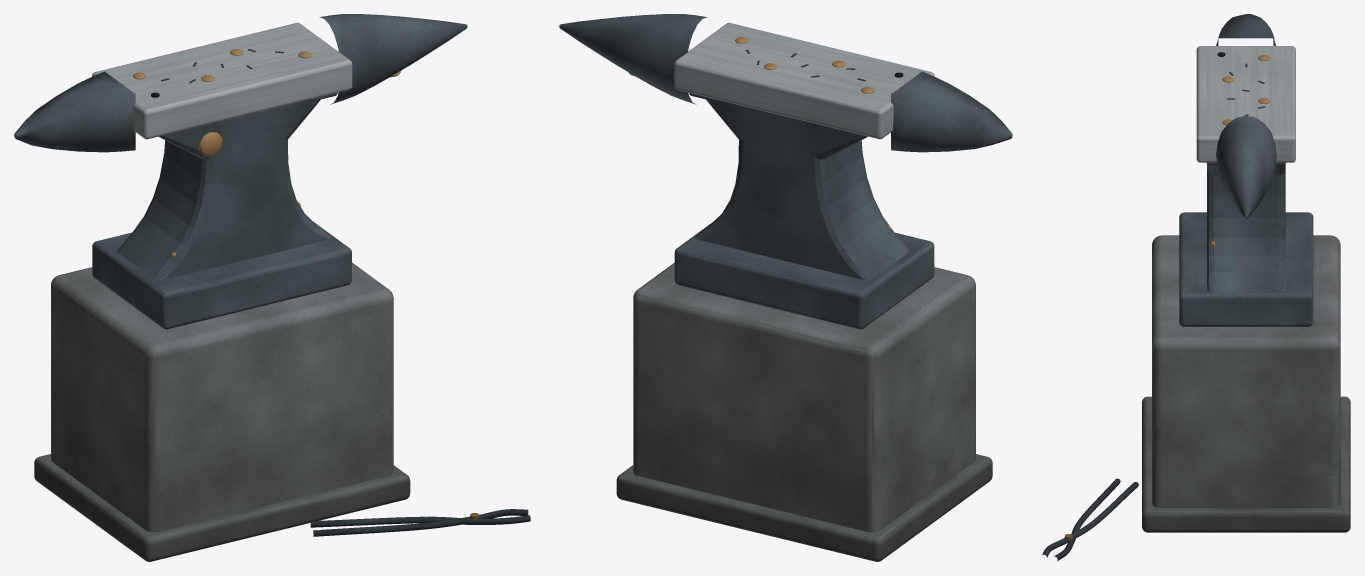
The picture shows the model from 3 angles, left to right: view 1: azimuth 30°, elevation 25°; view 2: azimuth 150°, elevation 25°; view 3: azimuth 270°, elevation 25°; orthographic projection. The views are drawn at different scales.
Visible parts, largest first — view 1: dressed stone, forged iron, machined steel, tooled stone trim, blackened strap iron; view 2: dressed stone, forged iron, machined steel, tooled stone trim; view 3: dressed stone, forged iron, machined steel, tooled stone trim, blackened strap iron.
Part boxes in pixels (left/top/right/bottom): dressed stone: left=51, top=262, right=393, bottom=532; forged iron: left=14, top=14, right=467, bottom=329; machined steel: left=92, top=22, right=352, bottom=139; tooled stone trim: left=34, top=454, right=410, bottom=561; blackened strap iron: left=161, top=49, right=530, bottom=536; dressed stone: left=633, top=263, right=975, bottom=532; forged iron: left=559, top=14, right=1012, bottom=329; machined steel: left=674, top=22, right=934, bottom=139; tooled stone trim: left=616, top=454, right=992, bottom=561; dressed stone: left=1152, top=235, right=1340, bottom=507; forged iron: left=1179, top=14, right=1313, bottom=326; machined steel: left=1196, top=46, right=1295, bottom=162; tooled stone trim: left=1142, top=396, right=1350, bottom=532; blackened strap iron: left=1042, top=63, right=1265, bottom=561.
Bounding box in the file's own units: 0.954 × 0.9 × 0.6226.
8 materials, 6 textured.
